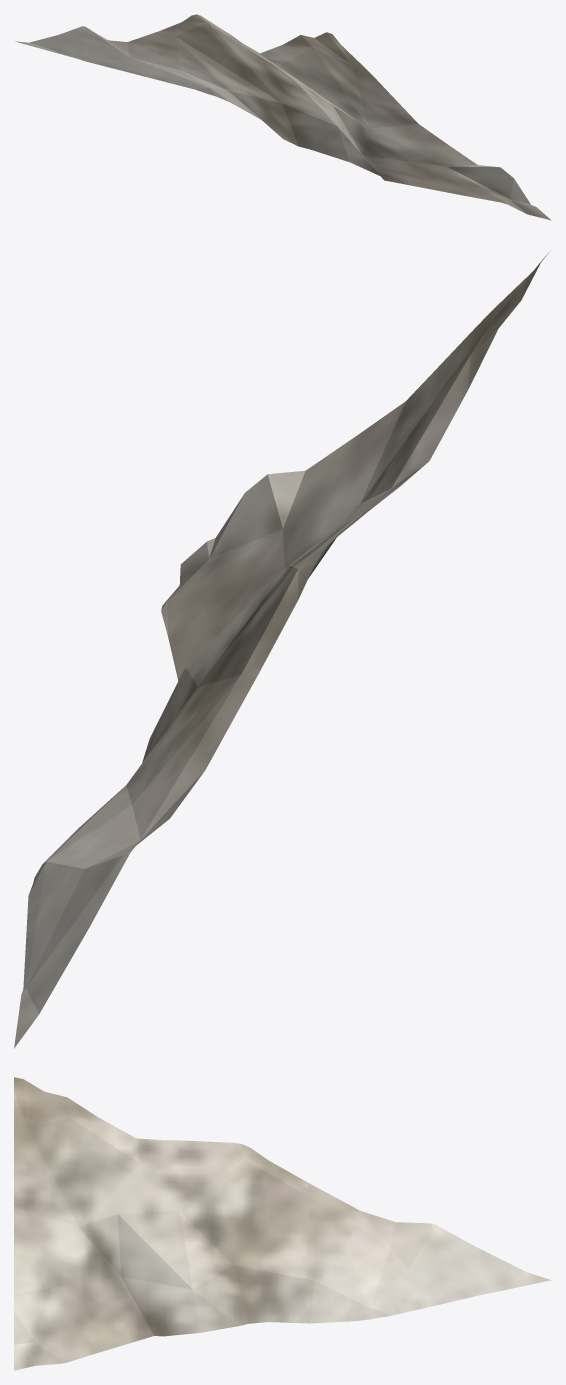
3 views of the same model, one above another, from view 1: azimuth 30°, elevation 25°; view 2: azimuth 150°, elevation 25°; view 3: azimuth 270°, elevation 25° (orthographic). The views are drawn at different scales.
Bounding box in the file's own units: 0.428 × 0.4472 × 1.07.
Materials: 1 (1 with a texture image).
